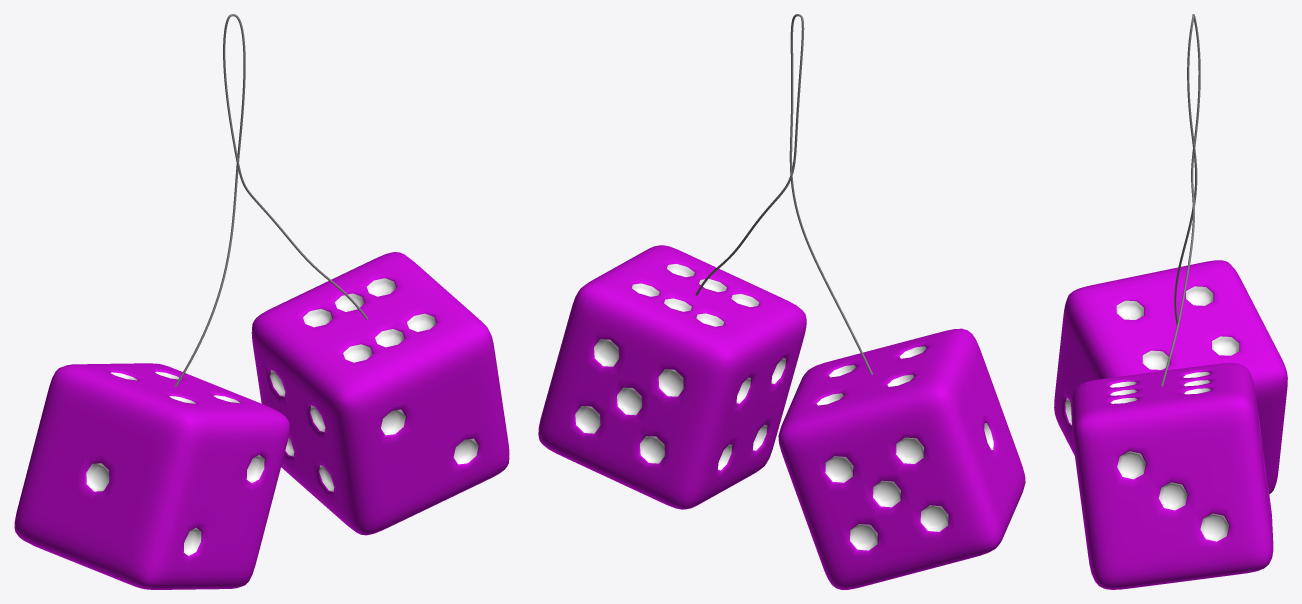
The model's file is Fuzzy Dice.fbx.
3 renders of one model, left to right at view 1: azimuth 30°, elevation 25°; view 2: azimuth 150°, elevation 25°; view 3: azimuth 270°, elevation 25°, orthographic. The views are drawn at different scales.
Parts seen in each view (by area): view 1: Cube.002; view 2: Cube.002; view 3: Cube.002.
Part boxes in pixels (x1,y1,x2,y2): Cube.002: (14, 14, 509, 589); Cube.002: (538, 14, 1025, 589); Cube.002: (1054, 14, 1287, 589).
Bounding box in the file's own units: 40.21 × 46.9 × 18.88.
